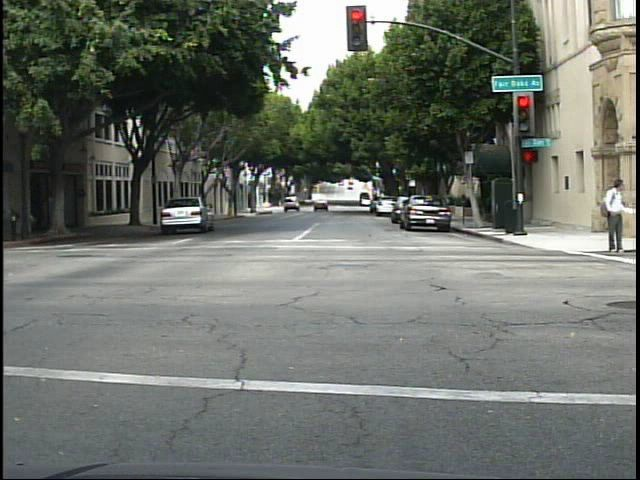person: (595, 170, 639, 258)
